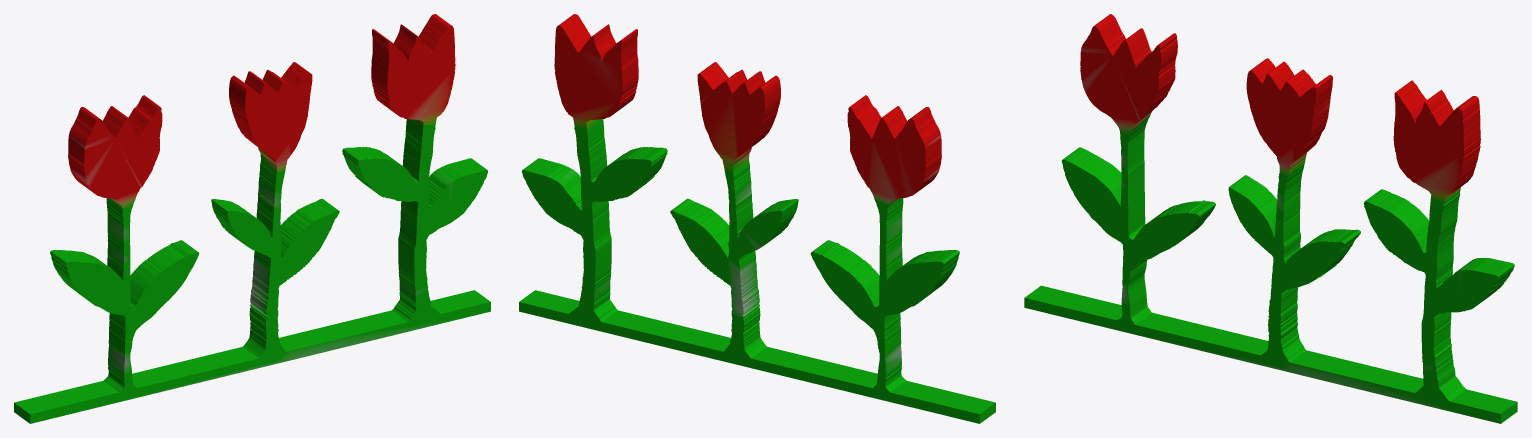
File: flowers.glb
3 views of the same model, side by side, from view 1: azimuth 30°, elevation 25°; view 2: azimuth 150°, elevation 25°; view 3: azimuth 330°, elevation 25° (orthographic). The views are drawn at different scales.
Visible parts, largest first — view 1: defaultobject; view 2: defaultobject; view 3: defaultobject.
Boxes of the visible parts, x1=… form: defaultobject: x1=14, y1=14, x2=490, y2=423; defaultobject: x1=519, y1=14, x2=995, y2=423; defaultobject: x1=1024, y1=14, x2=1517, y2=423.
Bounding box in the file's own units: 165 × 101 × 10.
